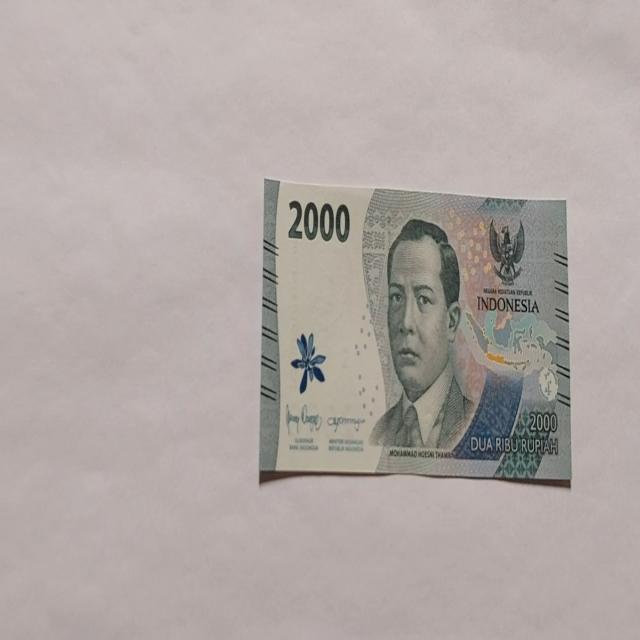dua ribu rupiah: (259, 175, 571, 486), (368, 216, 476, 453)
